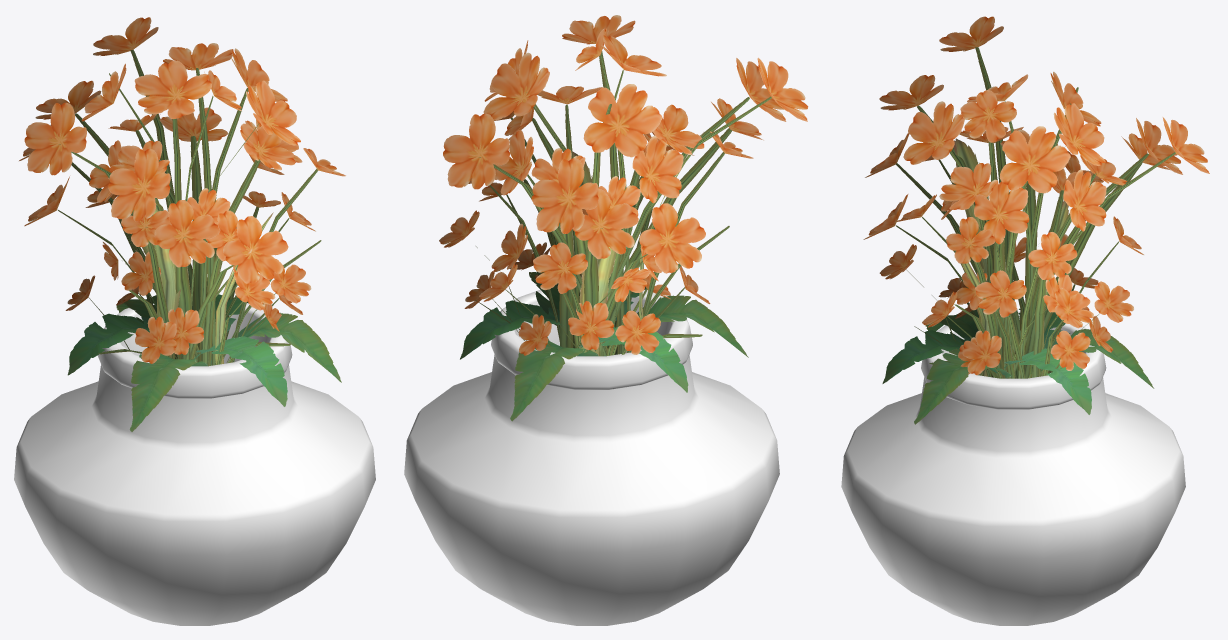
Rendered from SM_Potted_Orange_Flower_B.fbx.
The picture shows the model from 3 angles, left to right: view 1: azimuth 30°, elevation 25°; view 2: azimuth 150°, elevation 25°; view 3: azimuth 270°, elevation 25°; orthographic projection. The views are drawn at different scales.
Parts seen in each view (by area): view 1: SM_Potted_Orange_Flower_B_LOD0; view 2: SM_Potted_Orange_Flower_B_LOD0; view 3: SM_Potted_Orange_Flower_B_LOD0.
Part boxes in pixels (x1,y1,x2,y2): SM_Potted_Orange_Flower_B_LOD0: (14,17,375,625); SM_Potted_Orange_Flower_B_LOD0: (404,15,808,625); SM_Potted_Orange_Flower_B_LOD0: (841,16,1209,625).
Bounding box in the file's own units: 46.86 × 46.2 × 69.81.
2 materials, 1 textured.
